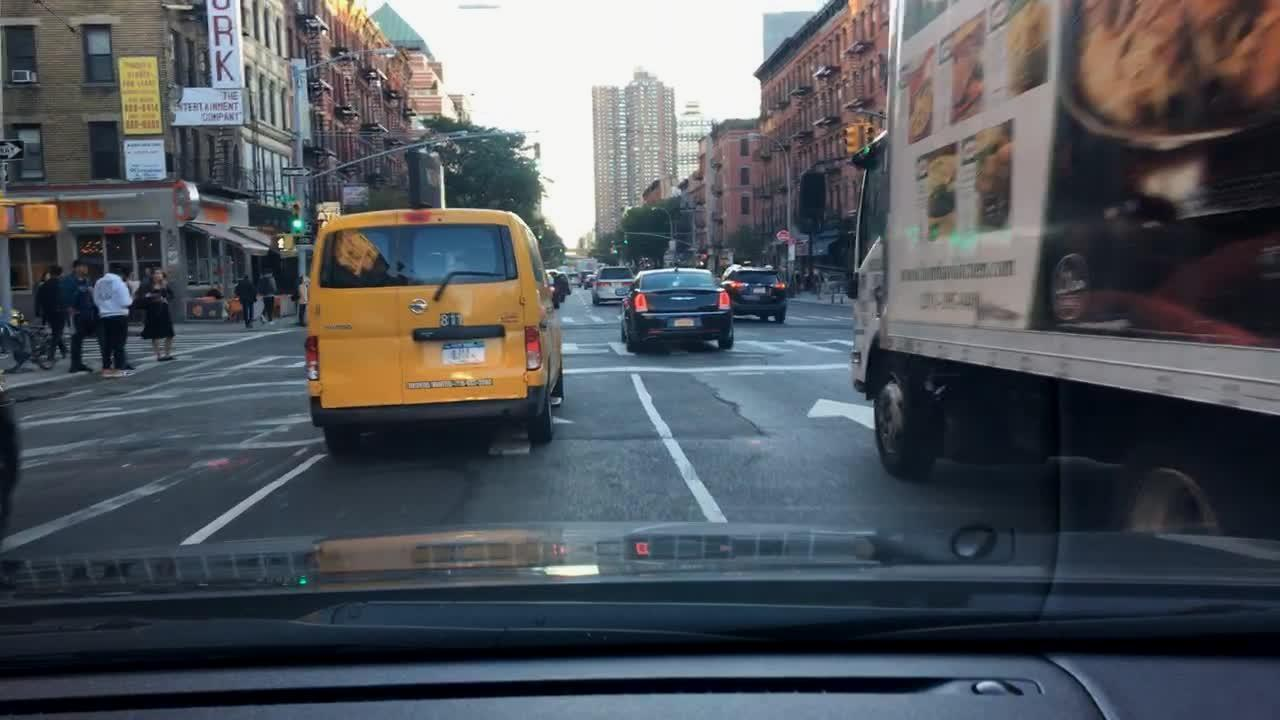Chrysler: (667, 292, 702, 306)
Nissan: (406, 293, 431, 320)
